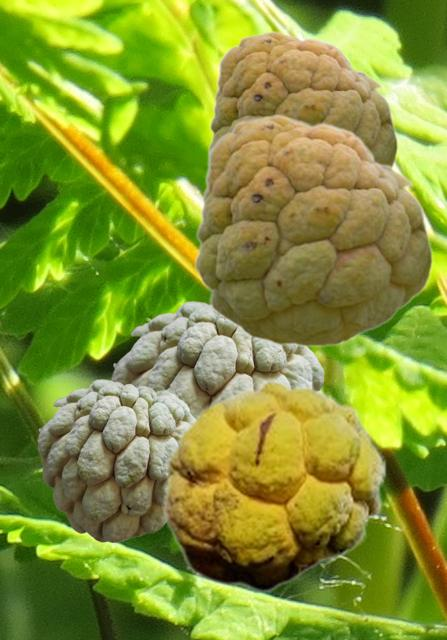atis: (193, 113, 432, 346), (161, 378, 386, 592), (207, 30, 397, 166), (37, 379, 194, 541), (111, 301, 323, 416)
